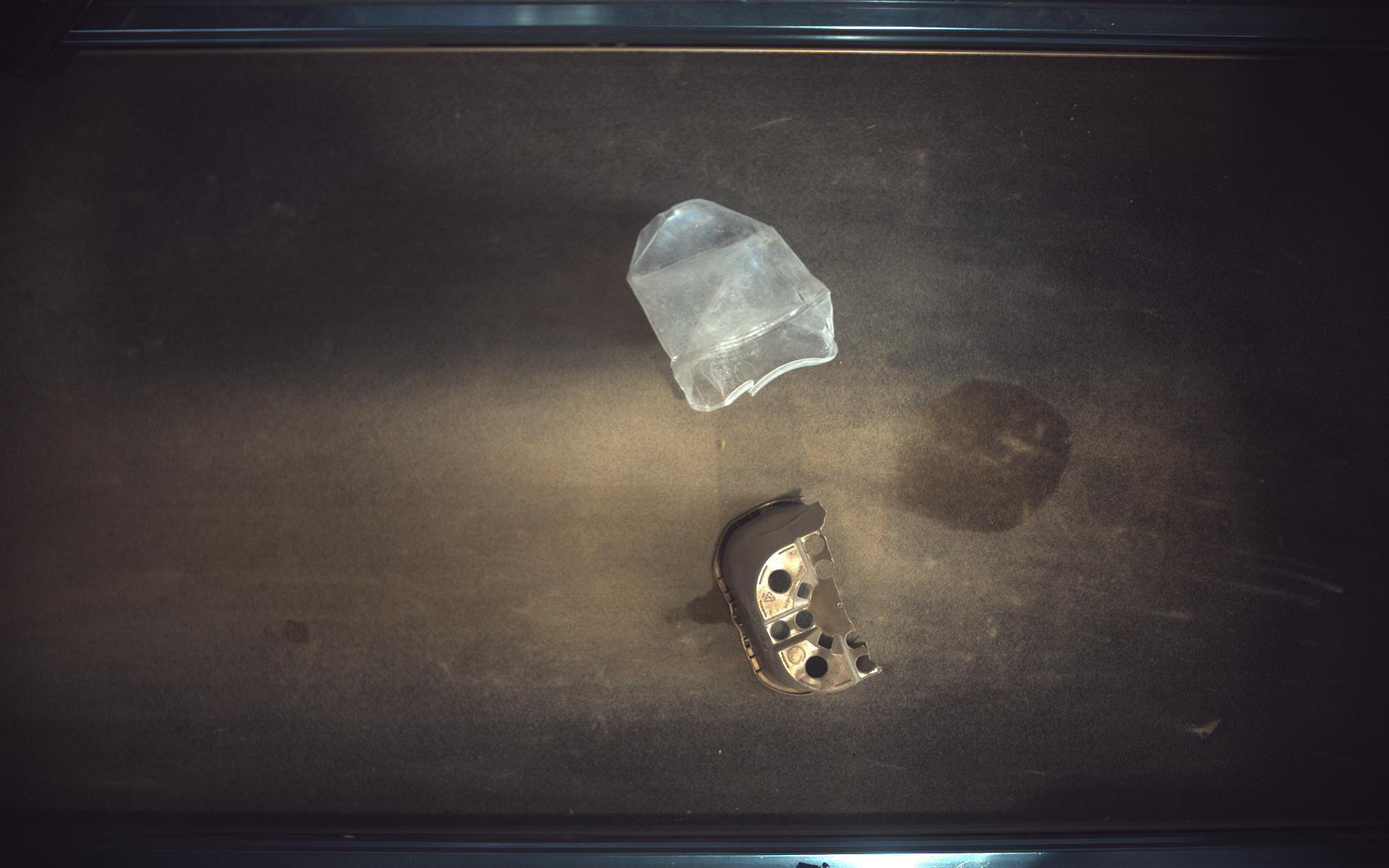general_w: (628, 198, 839, 411), (714, 490, 883, 695)
